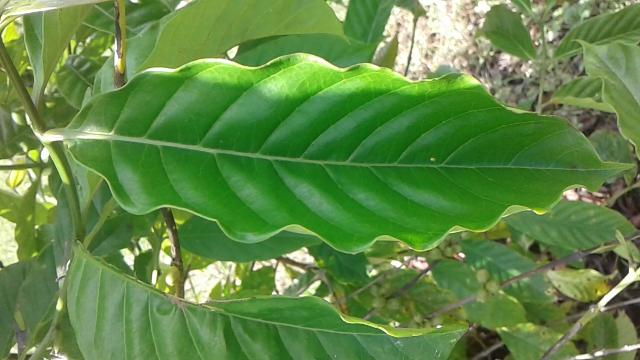healthy: (64, 46, 638, 260)
